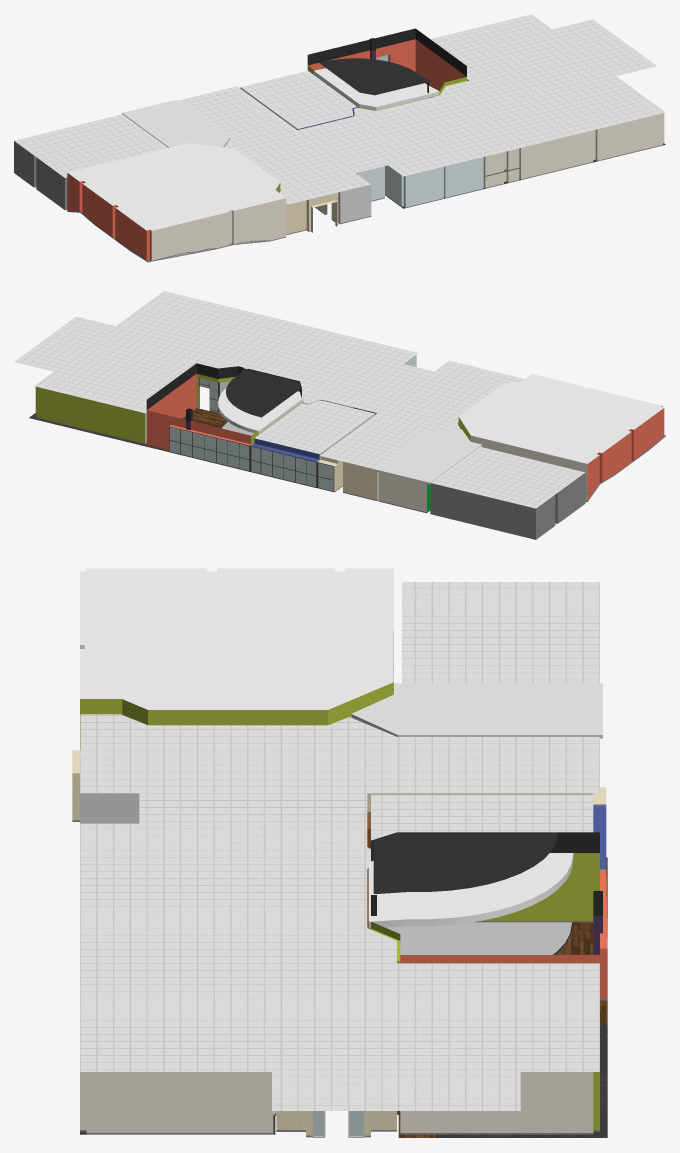
File: COBA 3rd Floor.fbx
3 views of the same model, one above another, from view 1: azimuth 30°, elevation 25°; view 2: azimuth 150°, elevation 25°; view 3: azimuth 270°, elevation 25° (orthographic). The views are drawn at different scales.
Parts seen in each view (by area): view 1: o_3_floor_hallway_ceiling, o_301_ceiling, o_3_floor_walls.002, o_3_floor_walls.009, o_316_ceiling, o_3_floor_walls.001, o_3_floor_hallway_ceiling.001, o_302_ceiling, o_3_floor_walls.007, o_3_floor_walls.003, o_3_floor_walls.004, o_3_floor_walls.019 (+2 smaller); view 2: o_3_floor_hallway_ceiling, o_301_ceiling, o_3_floor_walls.003, o_3_floor_walls.001, o_3_floor_window_metal.001, o_316_ceiling, o_3_floor_walls.002, o_3_floor_hallway_ceiling.001, o_3_floor_walls.006, o_302_ceiling, o_3_floor_walls, o_314_316_floor (+5 smaller); view 3: o_3_floor_hallway_ceiling, o_301_ceiling, o_316_ceiling, o_302_ceiling, o_3_floor_walls.009, o_3_floor_hallway_ceiling.001, o_314_316_floor, o_3_floor_walls.006, o_3_floor_walls.001, o_3_floor_walls.002, o_3_floor_walls.005, Classroom Outside.001.
Part boxes in pixels (x1,y1,x2,y2): o_3_floor_hallway_ceiling: [14, 14, 665, 204]; o_301_ceiling: [67, 143, 285, 230]; o_3_floor_walls.002: [67, 173, 286, 261]; o_3_floor_walls.009: [519, 113, 664, 179]; o_316_ceiling: [313, 58, 439, 110]; o_3_floor_walls.001: [307, 28, 466, 110]; o_3_floor_hallway_ceiling.001: [241, 71, 356, 128]; o_302_ceiling: [122, 99, 229, 147]; o_3_floor_walls.007: [356, 165, 443, 208]; o_3_floor_walls.003: [14, 141, 67, 210]; o_3_floor_walls.004: [280, 188, 338, 235]; o_3_floor_walls.019: [444, 157, 483, 198]; o_3_floor_hallway_ceiling: [14, 291, 584, 508]; o_301_ceiling: [459, 374, 663, 463]; o_3_floor_walls.003: [430, 472, 585, 539]; o_3_floor_walls.001: [146, 363, 301, 451]; o_3_floor_window_metal.001: [170, 427, 332, 491]; o_316_ceiling: [218, 368, 302, 434]; o_3_floor_walls.002: [458, 386, 664, 501]; o_3_floor_hallway_ceiling.001: [254, 400, 374, 454]; o_3_floor_walls.006: [35, 386, 146, 444]; o_302_ceiling: [377, 429, 481, 484]; o_3_floor_walls: [378, 472, 430, 513]; o_314_316_floor: [29, 408, 315, 487]; o_3_floor_hallway_ceiling: [80, 582, 599, 1110]; o_301_ceiling: [80, 568, 393, 709]; o_316_ceiling: [368, 832, 573, 928]; o_302_ceiling: [351, 683, 602, 738]; o_3_floor_walls.009: [80, 1072, 276, 1134]; o_3_floor_hallway_ceiling.001: [371, 794, 593, 840]; o_314_316_floor: [386, 857, 607, 1137]; o_3_floor_walls.006: [397, 1072, 599, 1134]; o_3_floor_walls.001: [370, 832, 607, 1000]; o_3_floor_walls.002: [80, 645, 393, 749]; o_3_floor_walls.005: [80, 793, 139, 823]; Classroom Outside.001: [276, 1111, 396, 1137].
Bounding box in the file's own units: 4974 × 396 × 2128.
